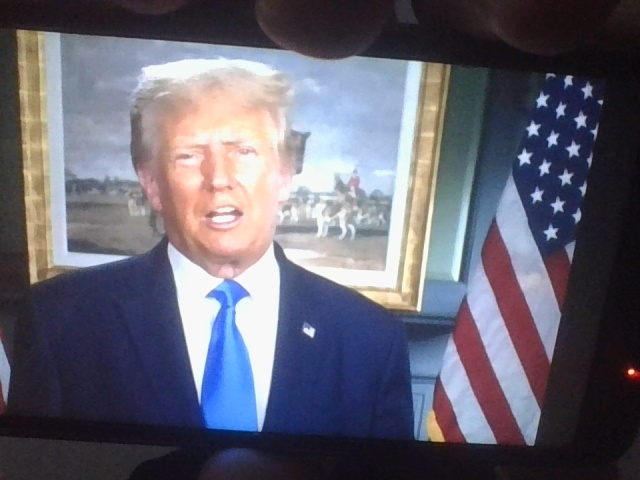fake: (146, 46, 302, 267)
